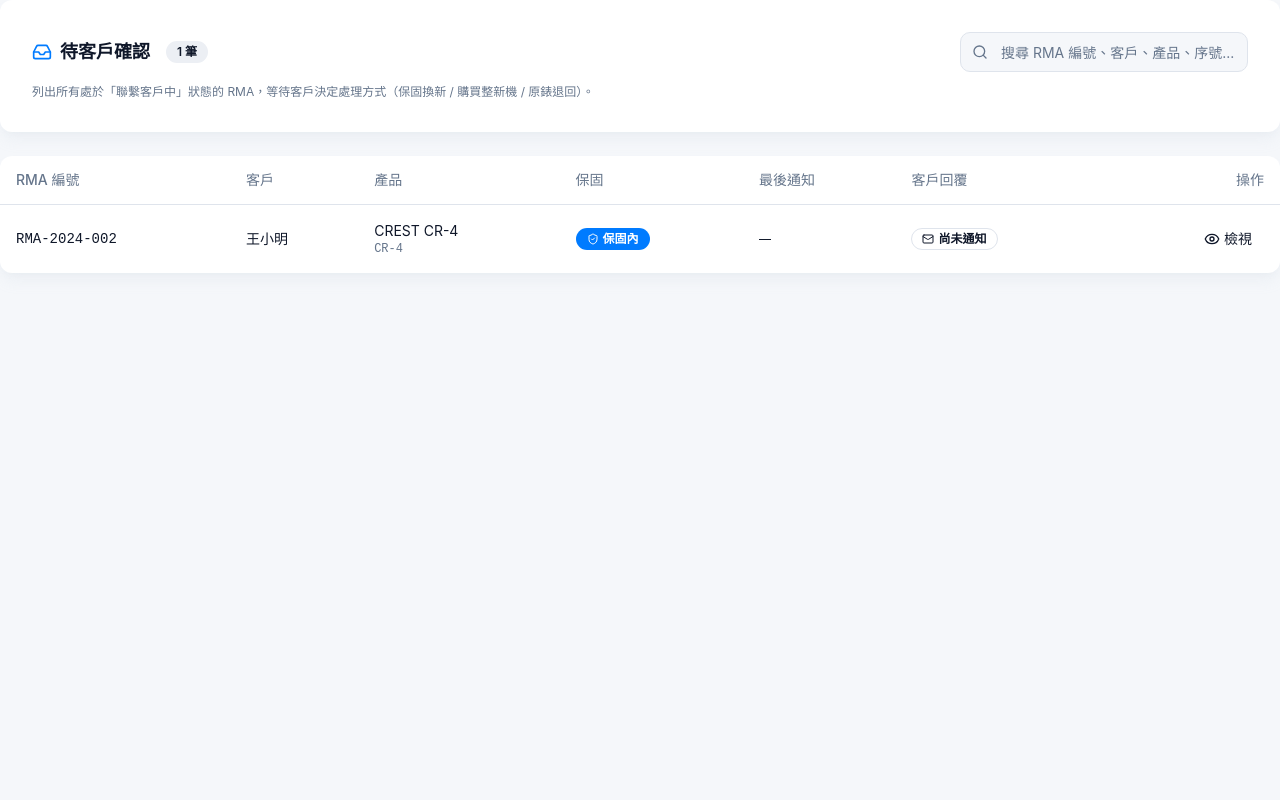
Test: AwaitingConfirmationTab - 對話框 › 保固內 RMA：對話框系統判斷顯示「保固內」
The image size is (1280, 800).
Click the button "檢視" at (1228, 238), box [1192, 220, 1264, 256]
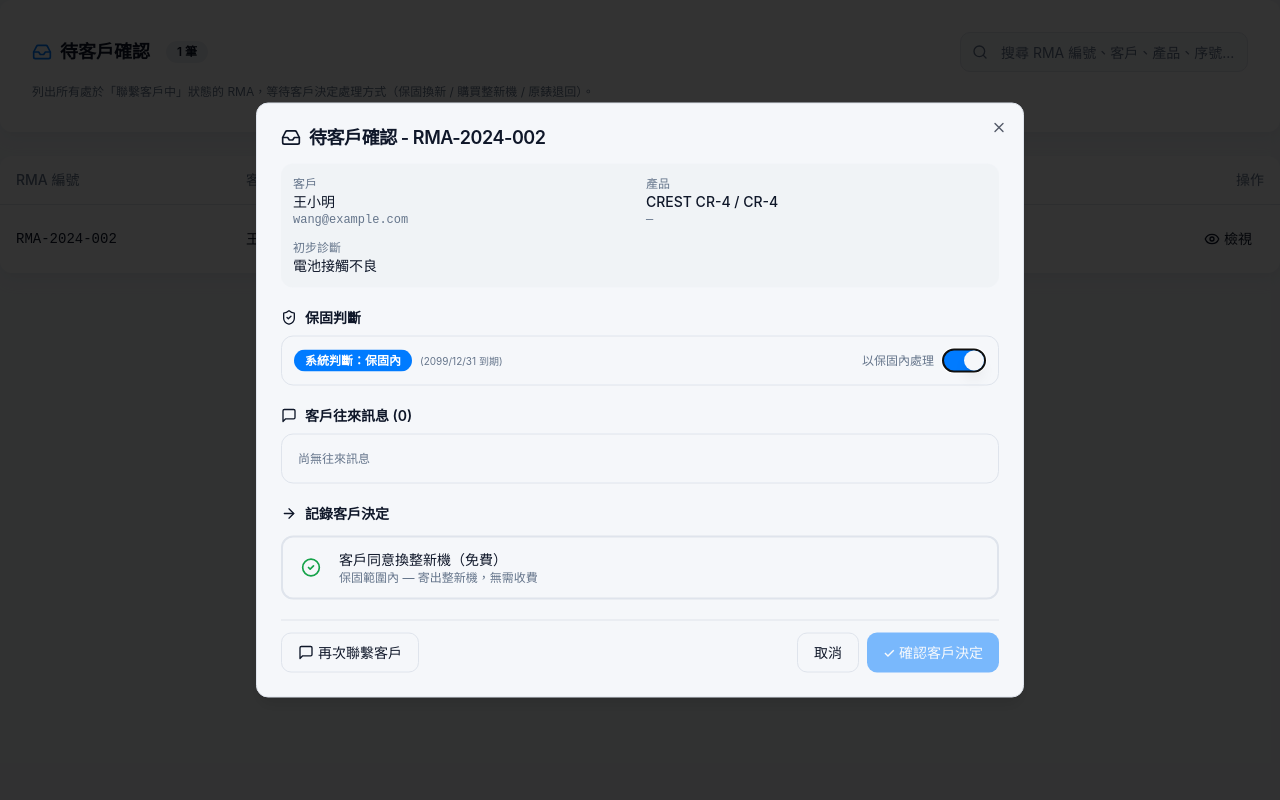
Expected: the text "系統判斷：保固內" is shown, [294, 350, 412, 372]
